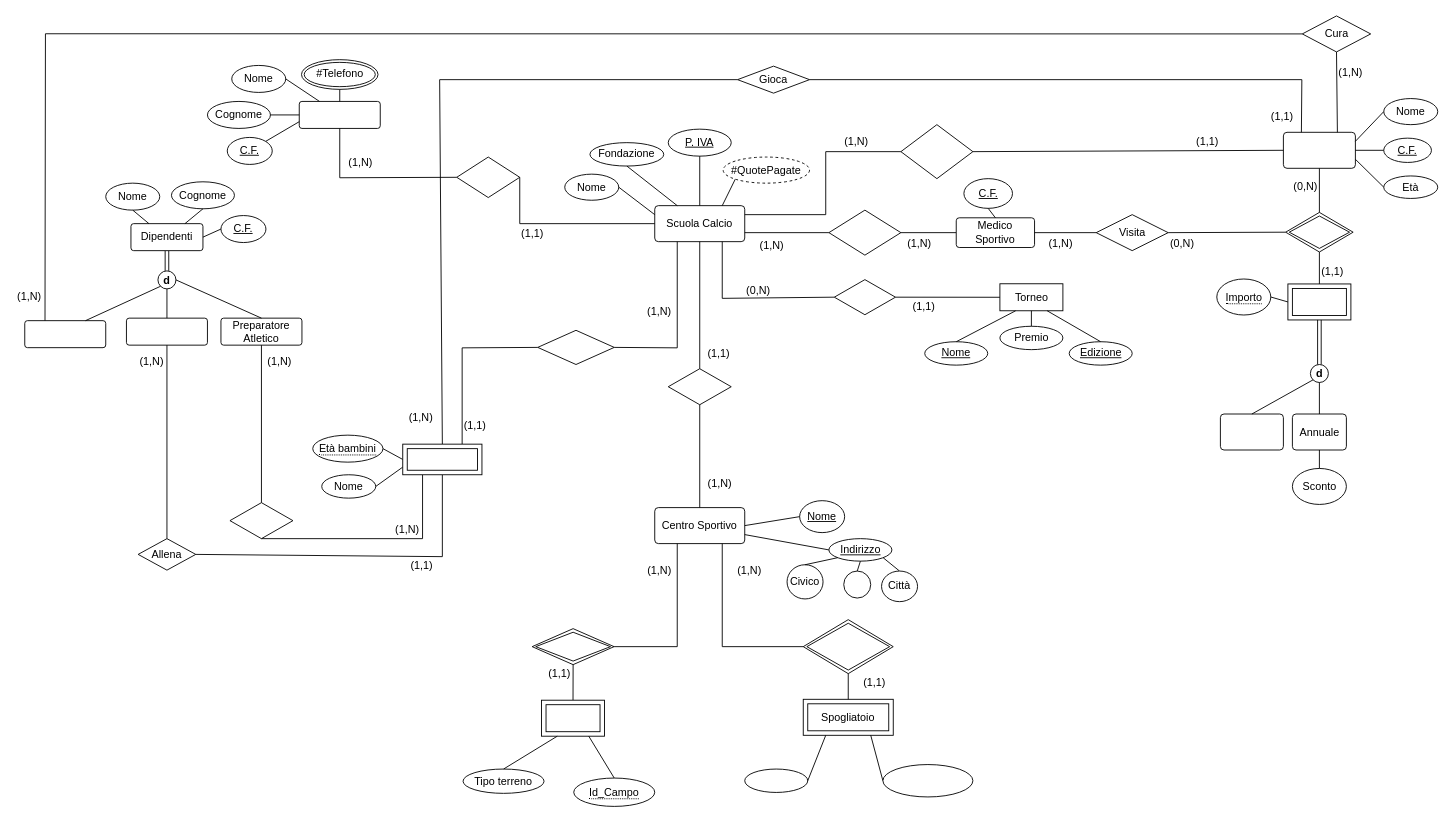
Some shapes in this 1454 by 823 pixel diagram are drawn without their labels. Each missing label, with the centre of its shape:
"#docce" belongs at point 776,780.
"Allenatore" belongs at point 166,331.
"Bambino" belongs at point 1318,149.
"Campo" belongs at point 573,717.
"Collabora" belongs at point 864,232.
"Composto" belongs at point 572,646.
"Dispone di" belongs at point 847,646.
"Fisioterapista" belongs at point 65,334.
"Formata" belongs at point 575,346.
"Id Spogliatoio" belongs at point 927,780.
"Iscritto" belongs at point 936,151.
"Mensile" belongs at point 1251,431.
"Paga" belongs at point 1319,232.
"Possiede" belongs at point 488,177.
"Prepara" belongs at point 261,520.
"Presidente" belongs at point 339,114.
"Retta" belongs at point 1319,301.
"Squadra" belongs at point 442,459.
"Utilizza" belongs at point 699,386.
"Via" belongs at point 857,584.
"Vince" belongs at point 864,297.
